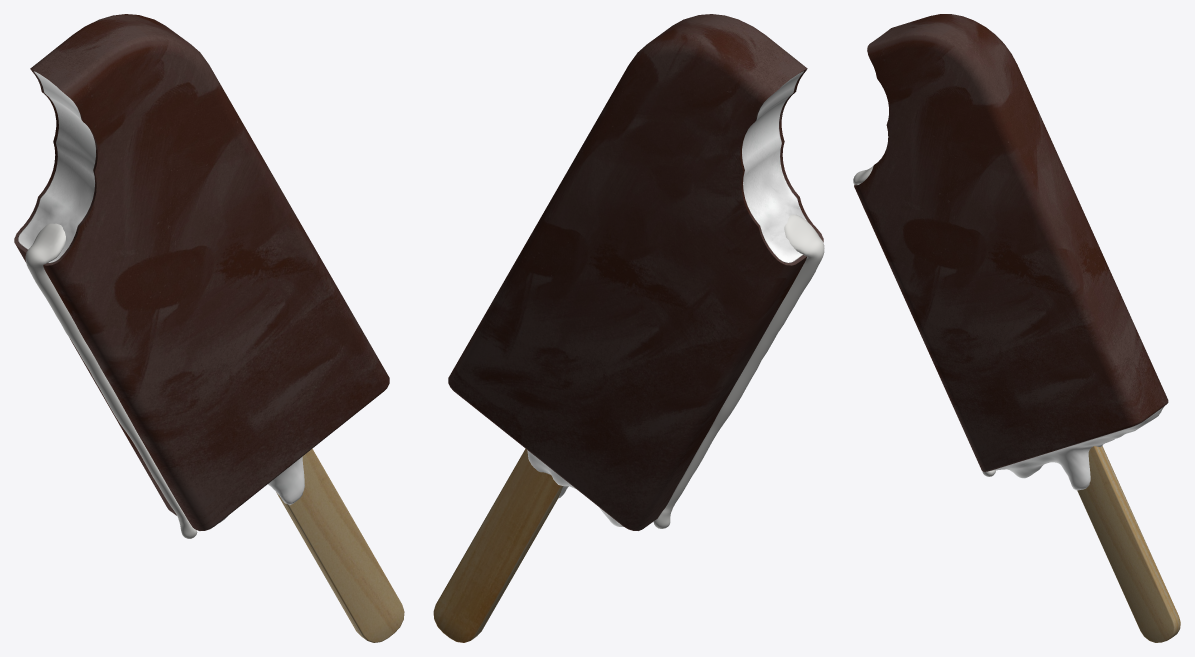
The model's file is melting_ice_cream_bar_-_shape_key_animation (1).glb.
3 renders of one model, left to right at view 1: azimuth 30°, elevation 25°; view 2: azimuth 150°, elevation 25°; view 3: azimuth 330°, elevation 25°, orthographic. The views are drawn at different scales.
Visible parts, largest first — view 1: Chocolate_1, Stick_6, IceCreamTop_2, MeltingIceCream_5, IceCreamTop.002_3; view 2: Chocolate_1, Stick_6, IceCreamTop_2, MeltingIceCream_5, IceCreamTop.002_3; view 3: Chocolate_1, Stick_6, IceCreamTop.002_3.
Part boxes in pixels (box(x1,y1,x2,y2)): Chocolate_1: box(14, 14, 389, 530); Stick_6: box(276, 448, 404, 642); IceCreamTop_2: box(18, 71, 95, 262); MeltingIceCream_5: box(25, 223, 197, 538); IceCreamTop.002_3: box(219, 456, 304, 522); Chocolate_1: box(448, 14, 823, 530); Stick_6: box(433, 448, 563, 642); IceCreamTop_2: box(742, 71, 806, 262); MeltingIceCream_5: box(653, 214, 824, 528); IceCreamTop.002_3: box(527, 450, 623, 526); Chocolate_1: box(854, 14, 1168, 471); Stick_6: box(1077, 446, 1180, 642); IceCreamTop.002_3: box(990, 406, 1164, 490).
Bounding box in the file's own units: 0.8147 × 1.38 × 0.1539.
Materials: 2 (1 with a texture image).
